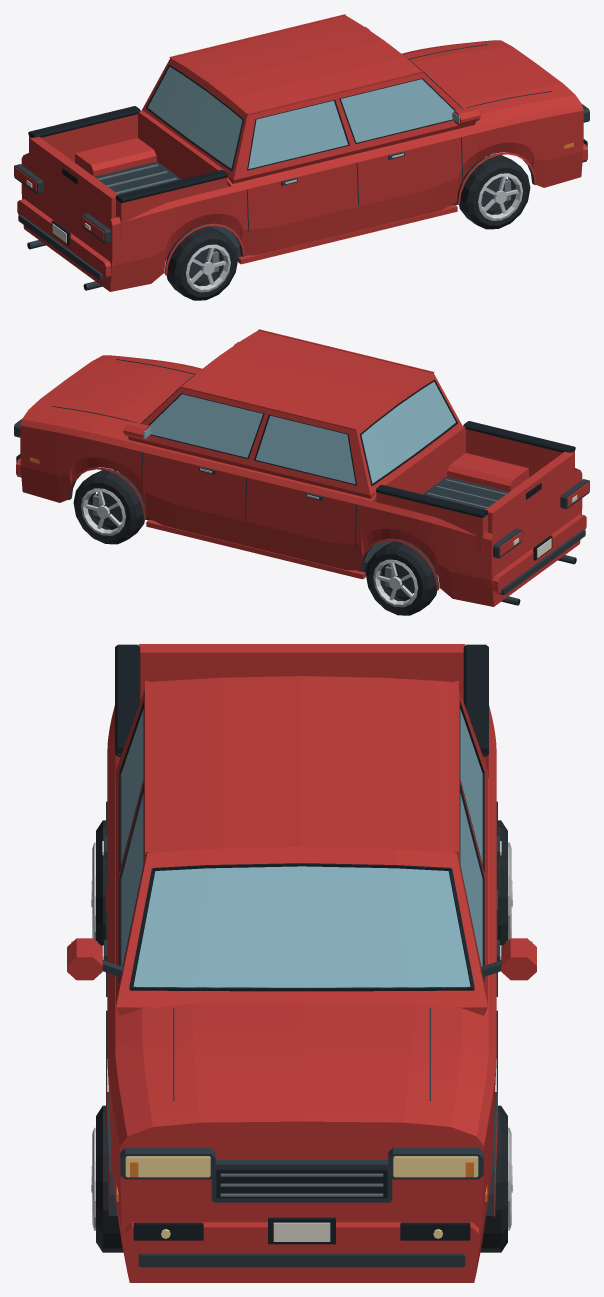
Rendered from b03_crew_cab_shortbed_pickup.glb.
The picture shows the model from 3 angles, top to bottom: view 1: azimuth 30°, elevation 25°; view 2: azimuth 150°, elevation 25°; view 3: azimuth 270°, elevation 25°; orthographic projection. The views are drawn at different scales.
Parts seen in each view (by area): view 1: b03_crew_cab_shortbed_pickup; view 2: b03_crew_cab_shortbed_pickup; view 3: b03_crew_cab_shortbed_pickup.
Boxes of the visible parts, bbox=[...] form: b03_crew_cab_shortbed_pickup: bbox=[14, 14, 589, 300]; b03_crew_cab_shortbed_pickup: bbox=[14, 329, 589, 615]; b03_crew_cab_shortbed_pickup: bbox=[67, 644, 536, 1282].
Bounding box in the file's own units: 6.02 × 1.97 × 2.5.
